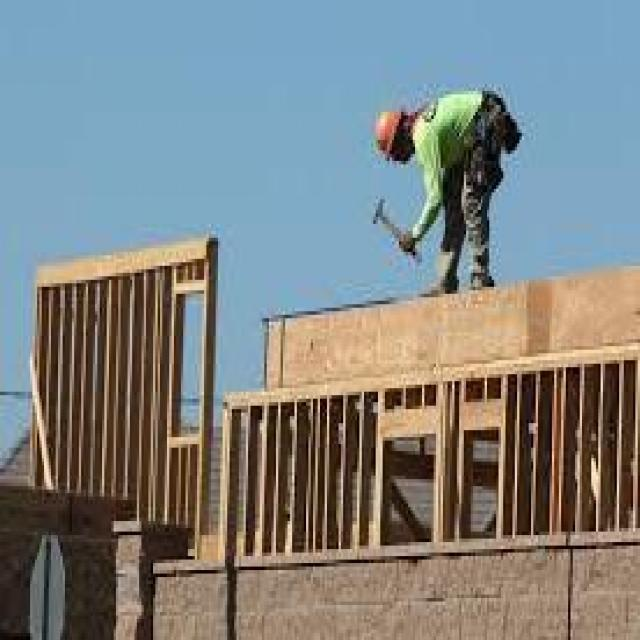Reflective-Jacket: (406, 77, 510, 238)
Safety-Helmet: (367, 98, 418, 168)
